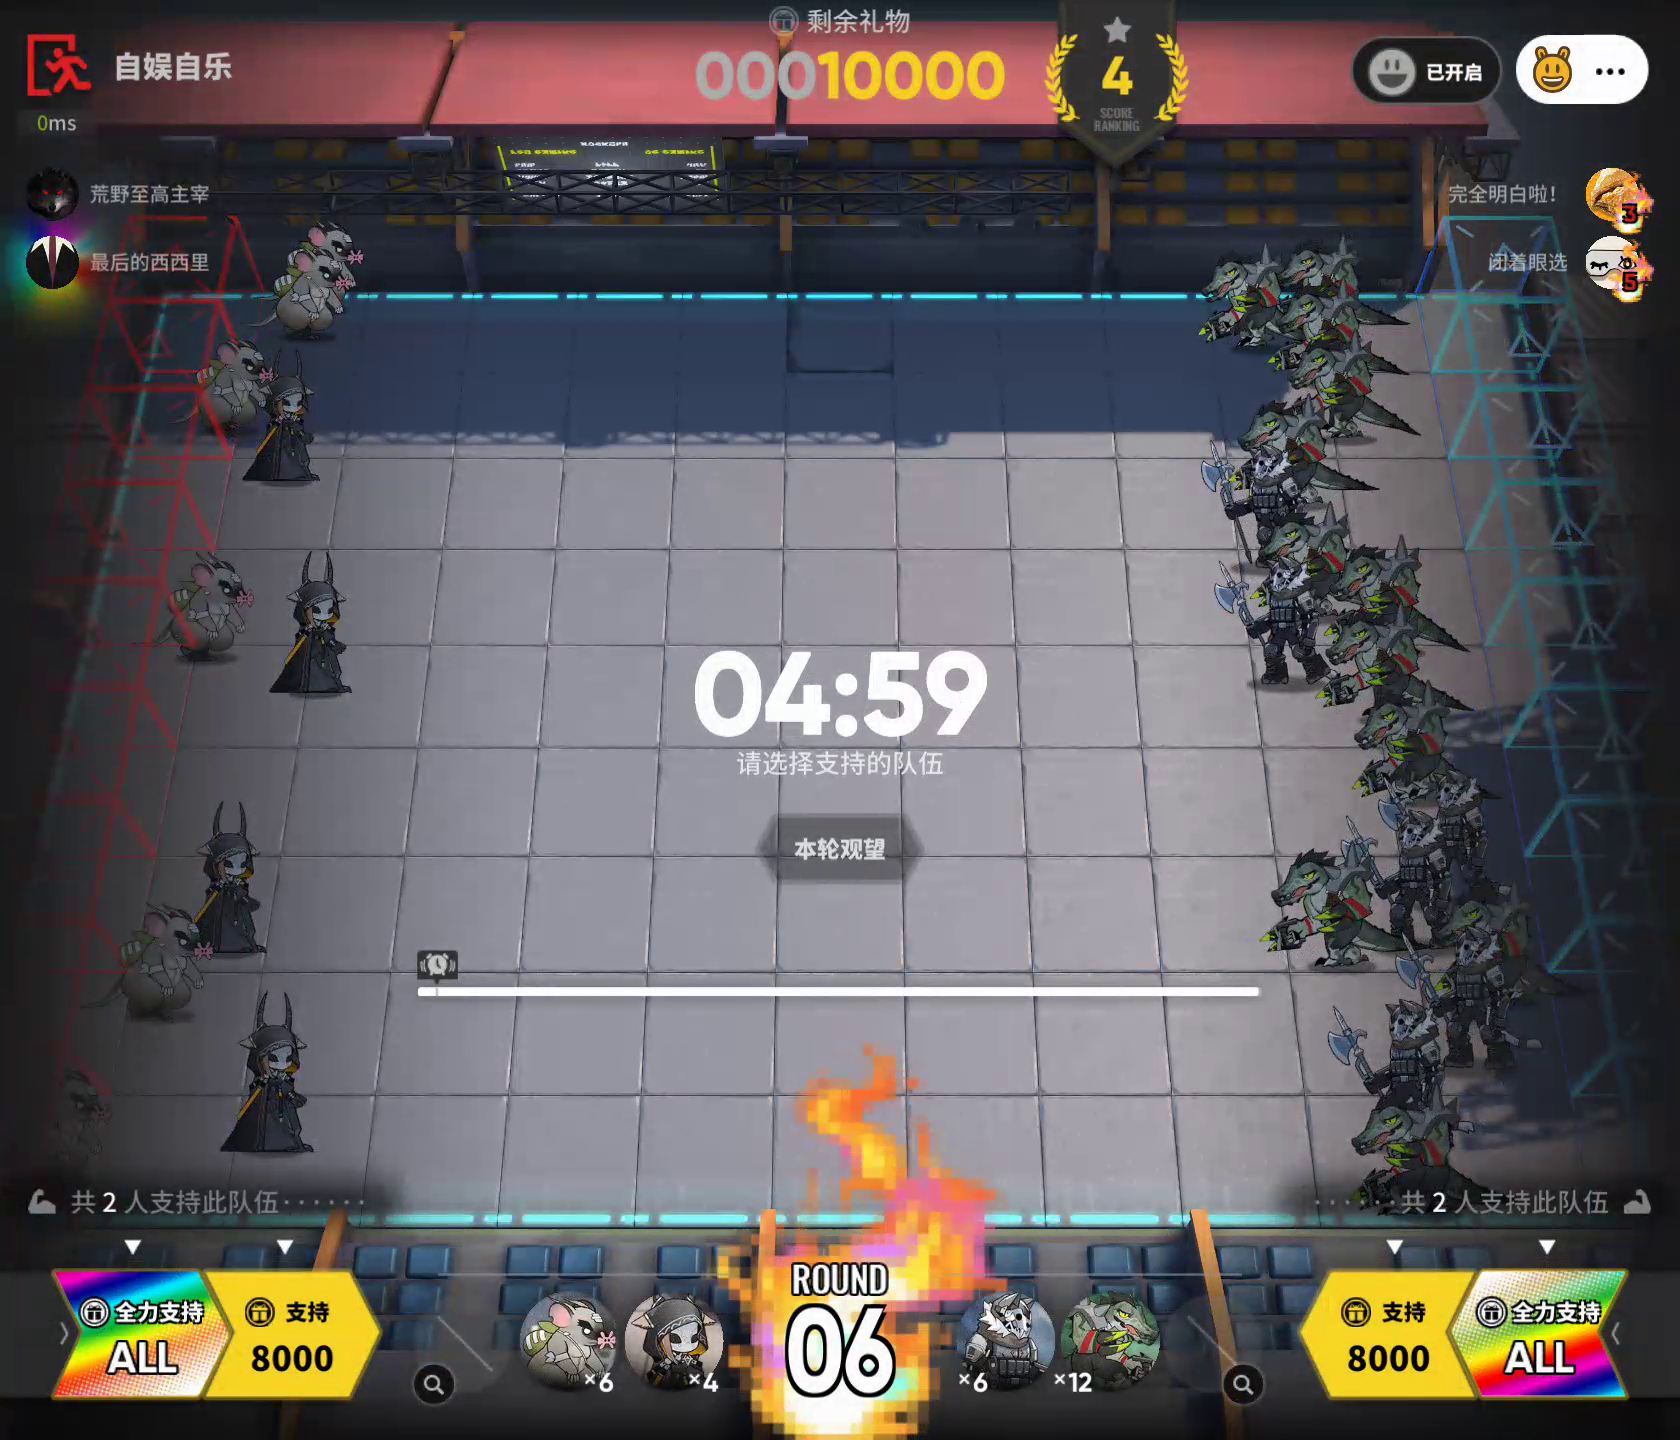扩音术师: (207, 993, 327, 1156), (177, 796, 280, 959), (261, 549, 361, 701), (234, 347, 324, 489), (620, 1289, 724, 1399)
硕鼷: (126, 549, 266, 664), (79, 901, 209, 1014), (6, 1071, 119, 1181), (169, 336, 286, 429), (246, 240, 350, 337), (519, 1289, 616, 1391), (291, 221, 363, 287)
窃笑鳄鱼: (1339, 1097, 1511, 1214), (1263, 844, 1434, 960), (1317, 530, 1474, 654), (1439, 886, 1589, 1006), (1354, 701, 1510, 803), (1314, 616, 1474, 713), (1239, 391, 1379, 496), (1287, 344, 1433, 441), (1187, 251, 1313, 359), (1271, 289, 1413, 383), (1053, 1284, 1167, 1396), (1281, 241, 1417, 330), (1256, 503, 1357, 584)
雪境精锐: (1397, 921, 1549, 1074), (1320, 994, 1476, 1136), (1211, 554, 1347, 691), (1367, 780, 1467, 949), (1200, 436, 1327, 564), (1419, 767, 1514, 900), (949, 1281, 1054, 1389)
